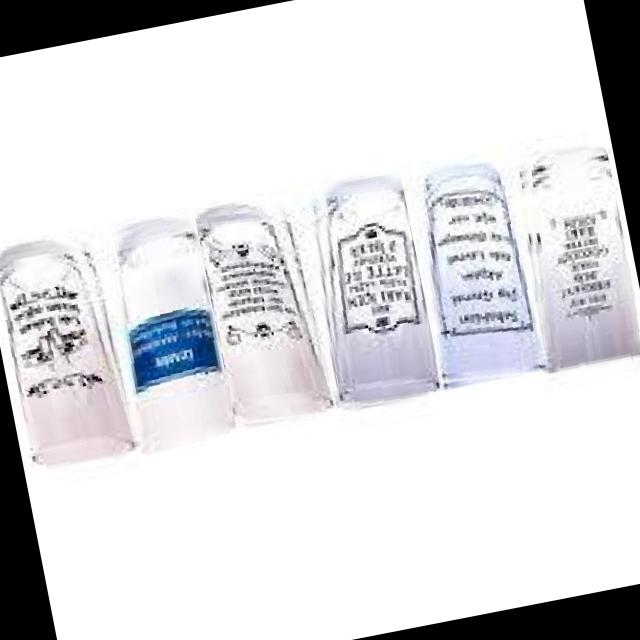Glass: (192, 189, 340, 433), (296, 171, 442, 415), (97, 210, 237, 457), (0, 226, 140, 473), (402, 158, 546, 392), (506, 140, 640, 375)
